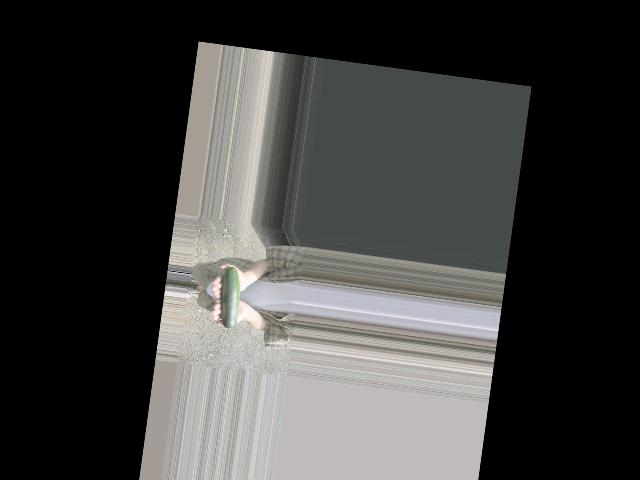cucumber: (215, 266, 243, 336)
